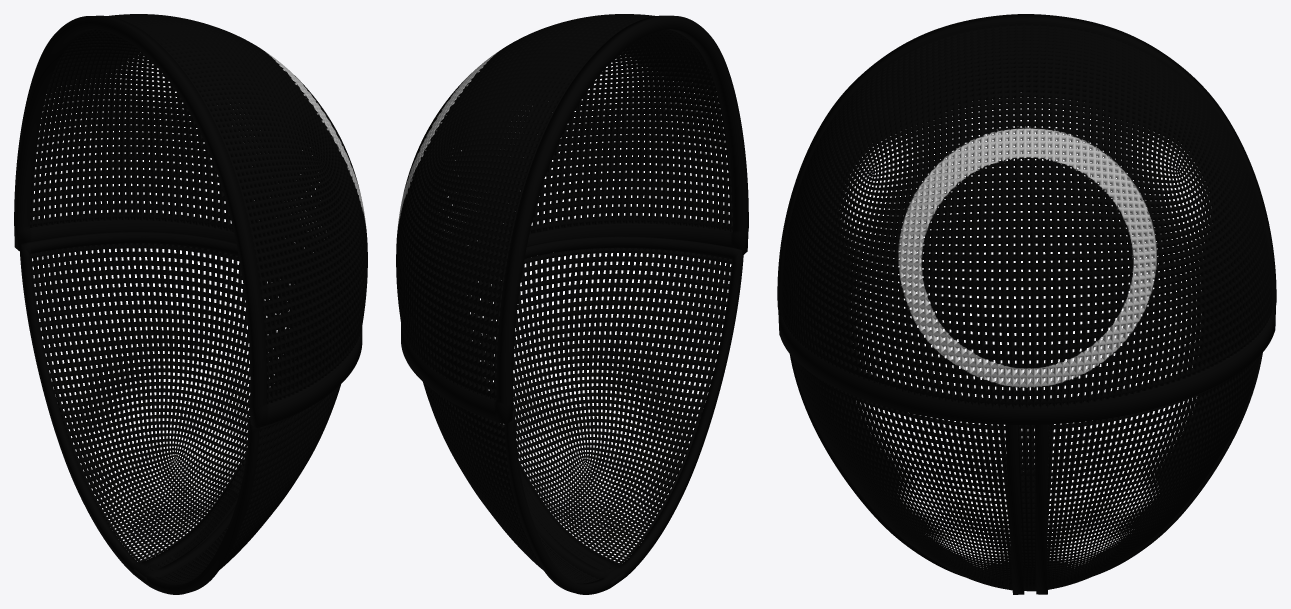
File: masque-rond.glb
3 renders of one model, left to right at view 1: azimuth 30°, elevation 25°; view 2: azimuth 150°, elevation 25°; view 3: azimuth 270°, elevation 25°, orthographic. The views are drawn at different scales.
Parts seen in each view (by area): view 1: Cube.006, Cube.022, Cube.015, Cube.020, Cube.007, Cube.008; view 2: Cube.006, Cube.007, Cube.015, Cube.020, Cube.022, Cube.008; view 3: Cube.006, Cube.022, Cube.007, Cube.015, Cube.020, Cube.008.
Boxes of the visible parts, bbox=[...] form: Cube.006: bbox=[30, 14, 367, 404]; Cube.022: bbox=[30, 243, 299, 563]; Cube.015: bbox=[14, 15, 362, 427]; Cube.020: bbox=[20, 231, 314, 594]; Cube.007: bbox=[160, 384, 340, 583]; Cube.008: bbox=[131, 279, 317, 582]; Cube.006: bbox=[396, 14, 732, 400]; Cube.007: bbox=[460, 247, 732, 565]; Cube.015: bbox=[401, 15, 748, 423]; Cube.020: bbox=[453, 236, 743, 594]; Cube.022: bbox=[423, 382, 599, 583]; Cube.008: bbox=[446, 282, 626, 585]; Cube.006: bbox=[781, 24, 1272, 408]; Cube.022: bbox=[1047, 356, 1259, 589]; Cube.007: bbox=[792, 357, 1012, 590]; Cube.015: bbox=[777, 14, 1276, 424]; Cube.020: bbox=[789, 353, 1262, 594]; Cube.008: bbox=[1018, 424, 1049, 591].
Size of the model in its own units: 4.19 by 10.93 by 8.73.
3 materials, 1 textured.
